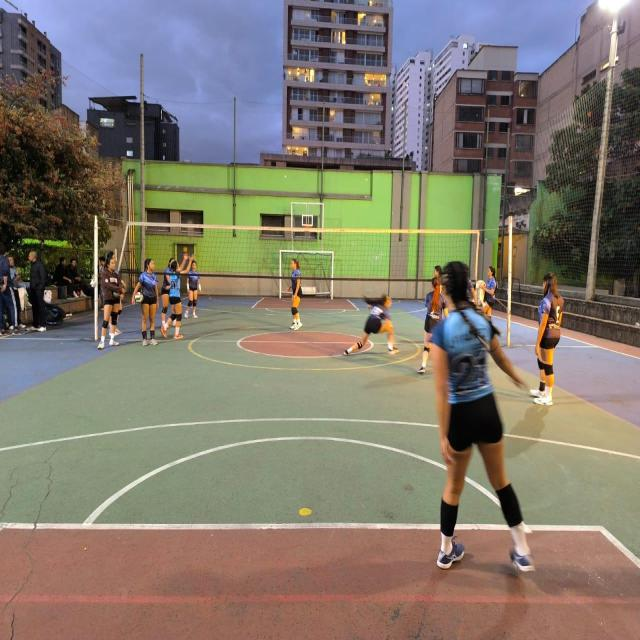volleyball: (134, 292, 144, 303)
